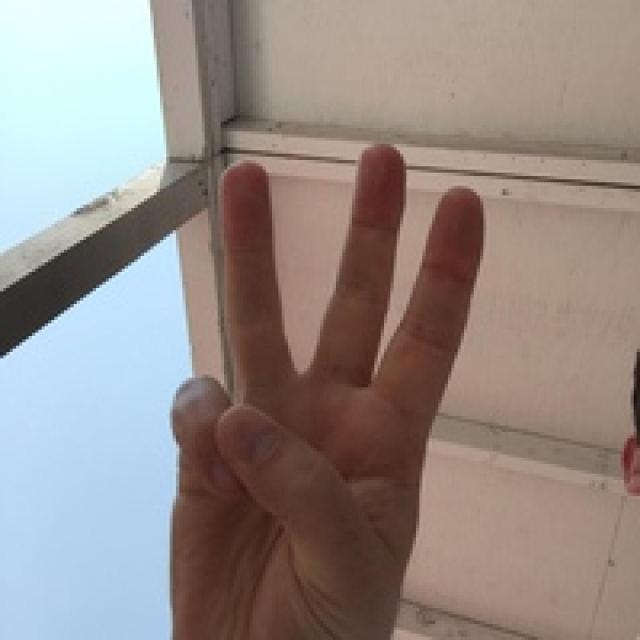W: (110, 142, 577, 638)
